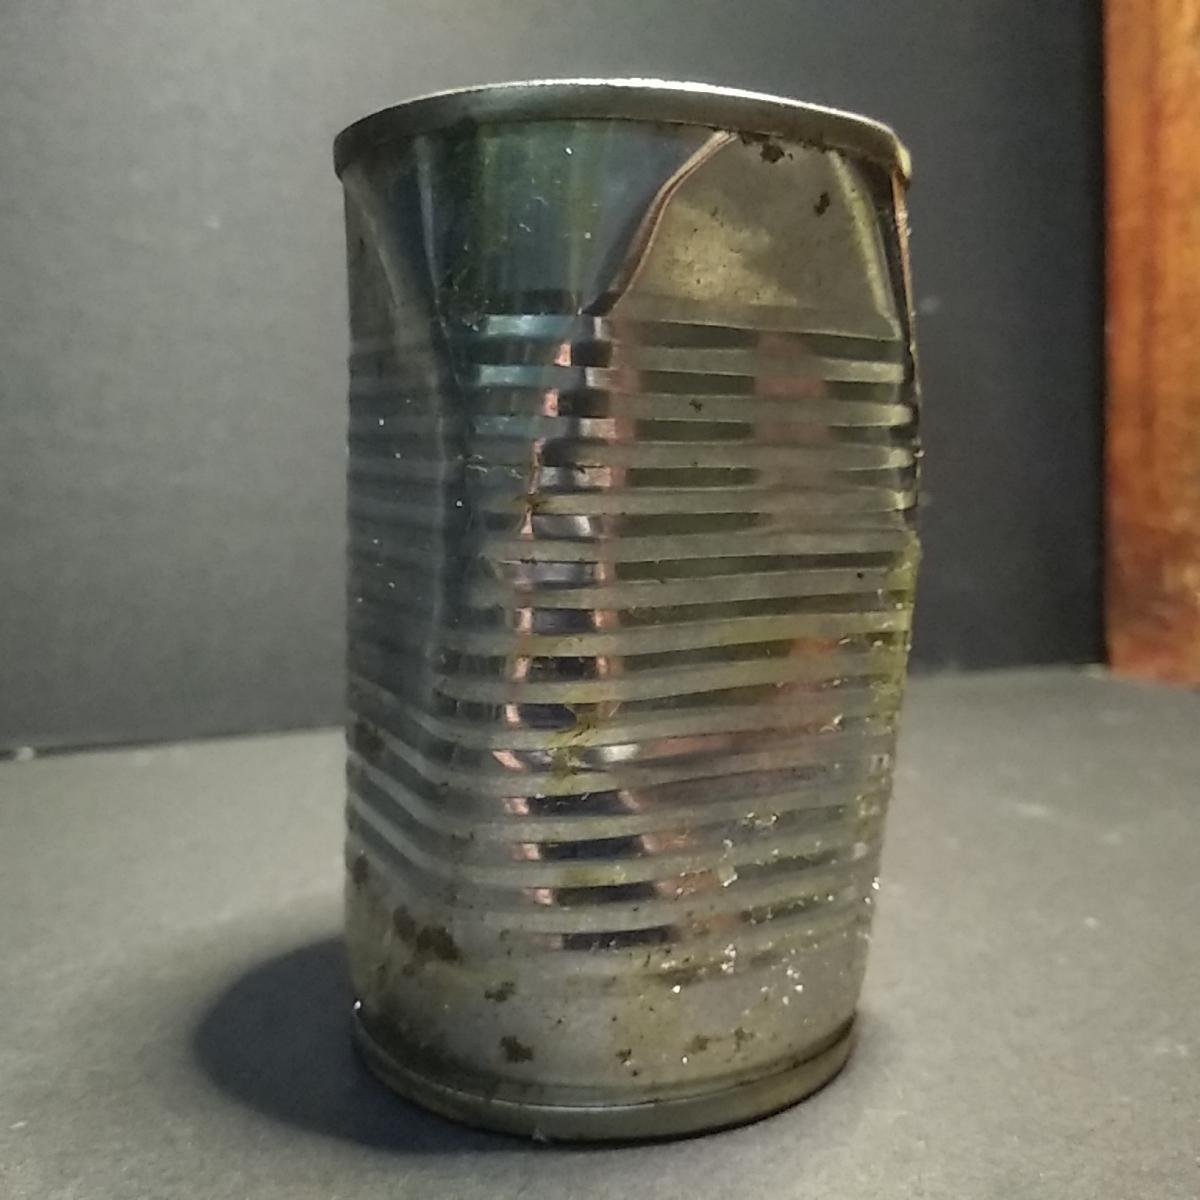Dented: (304, 66, 946, 1168)
